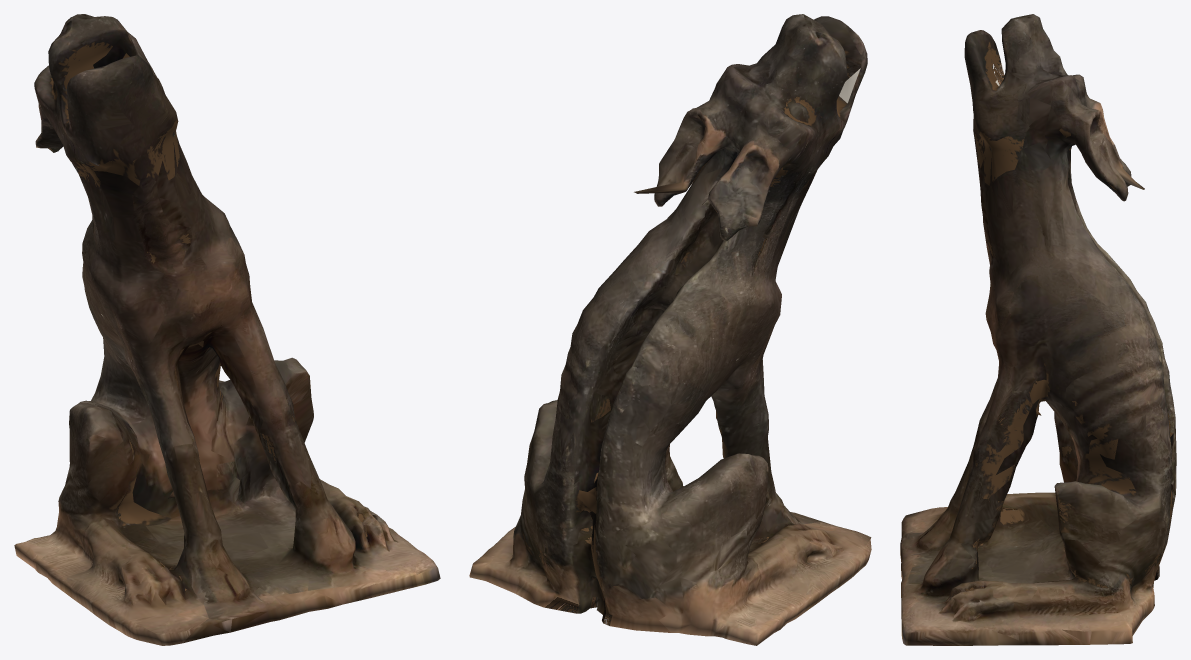
File: 6_monster_dog.glb
3 renders of one model, left to right at view 1: azimuth 30°, elevation 25°; view 2: azimuth 150°, elevation 25°; view 3: azimuth 270°, elevation 25°, orthographic. The views are drawn at different scales.
Parts seen in each view (by area): view 1: Mesh_0; view 2: Mesh_0; view 3: Mesh_0.
Boxes of the visible parts, x1=… form: Mesh_0: x1=14, y1=14, x2=440, y2=645; Mesh_0: x1=469, y1=14, x2=871, y2=645; Mesh_0: x1=900, y1=14, x2=1176, y2=645.
Size of the model in its own units: 1.15 by 1.97 by 0.9695.
4 materials, 4 textured.
